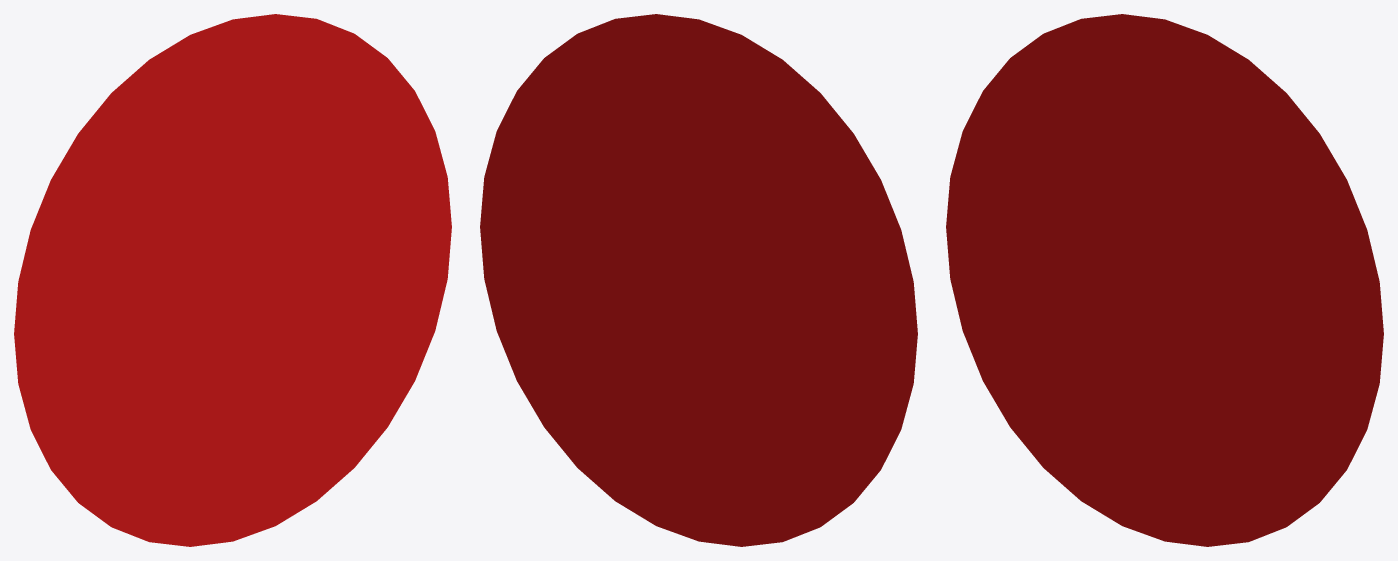
File: batmintonRacketNet.fbx
The picture shows the model from 3 angles, left to right: view 1: azimuth 30°, elevation 25°; view 2: azimuth 150°, elevation 25°; view 3: azimuth 330°, elevation 25°; orthographic projection.
Parts seen in each view (by area): view 1: Cylinder.001; view 2: Cylinder.001; view 3: Cylinder.001.
Part boxes in pixels (<box>): Cylinder.001: <box>14,14,451,546</box>; Cylinder.001: <box>480,14,917,546</box>; Cylinder.001: <box>946,14,1383,546</box>.
Bounding box in the file's own units: 1.53 × 1.74 × 7.57e-08.
